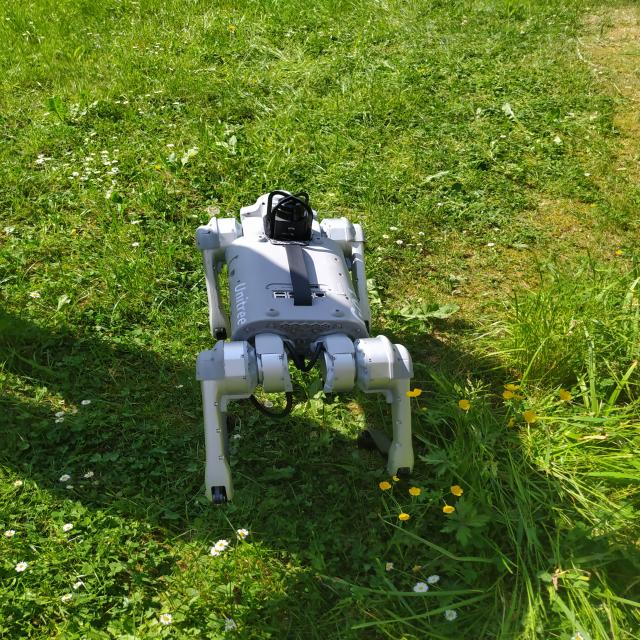unitree-go1-robot: (172, 177, 462, 533)
